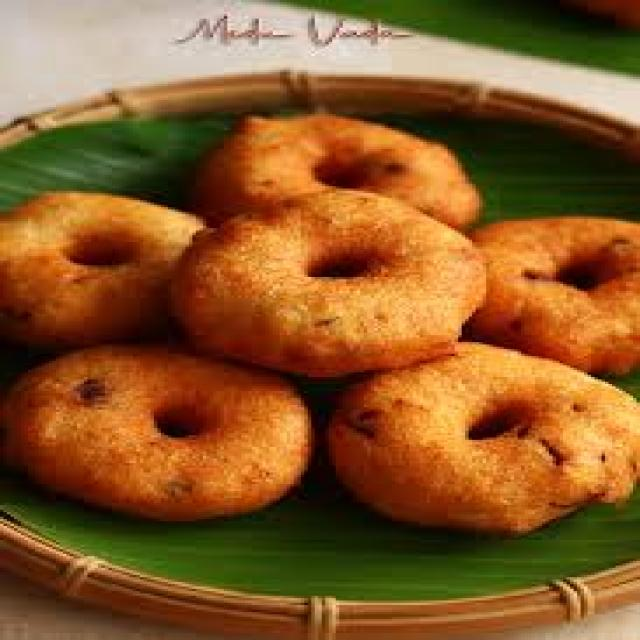MEDU VADA: (166, 188, 476, 377), (11, 339, 327, 515), (329, 350, 637, 528), (0, 188, 204, 341), (215, 113, 481, 222), (472, 211, 637, 370)
